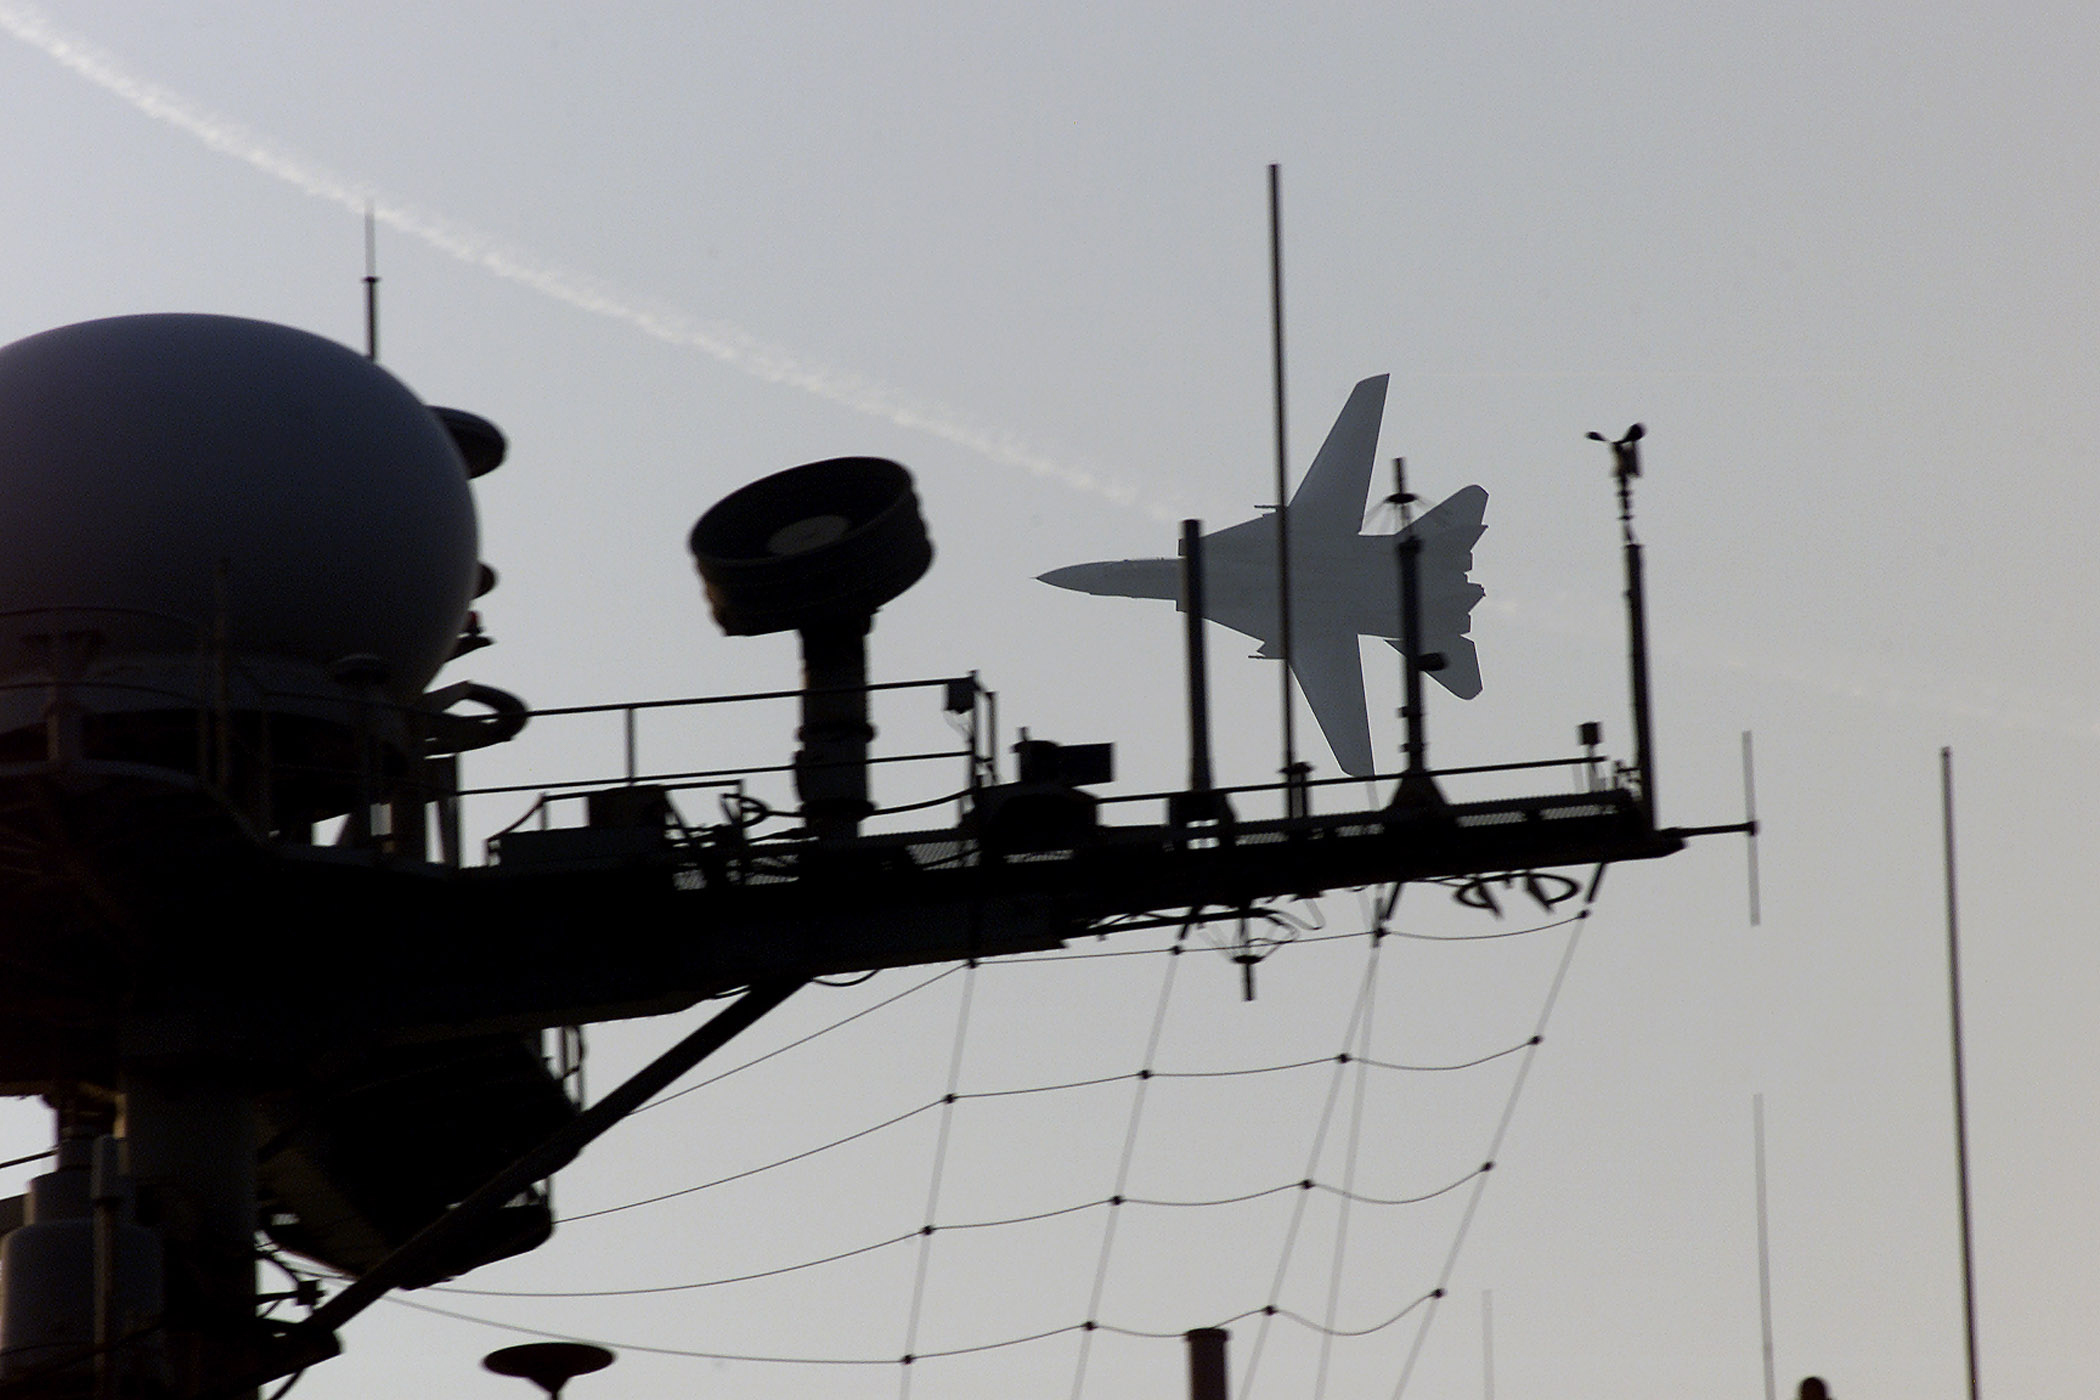F14: (1028, 372, 1489, 781)
